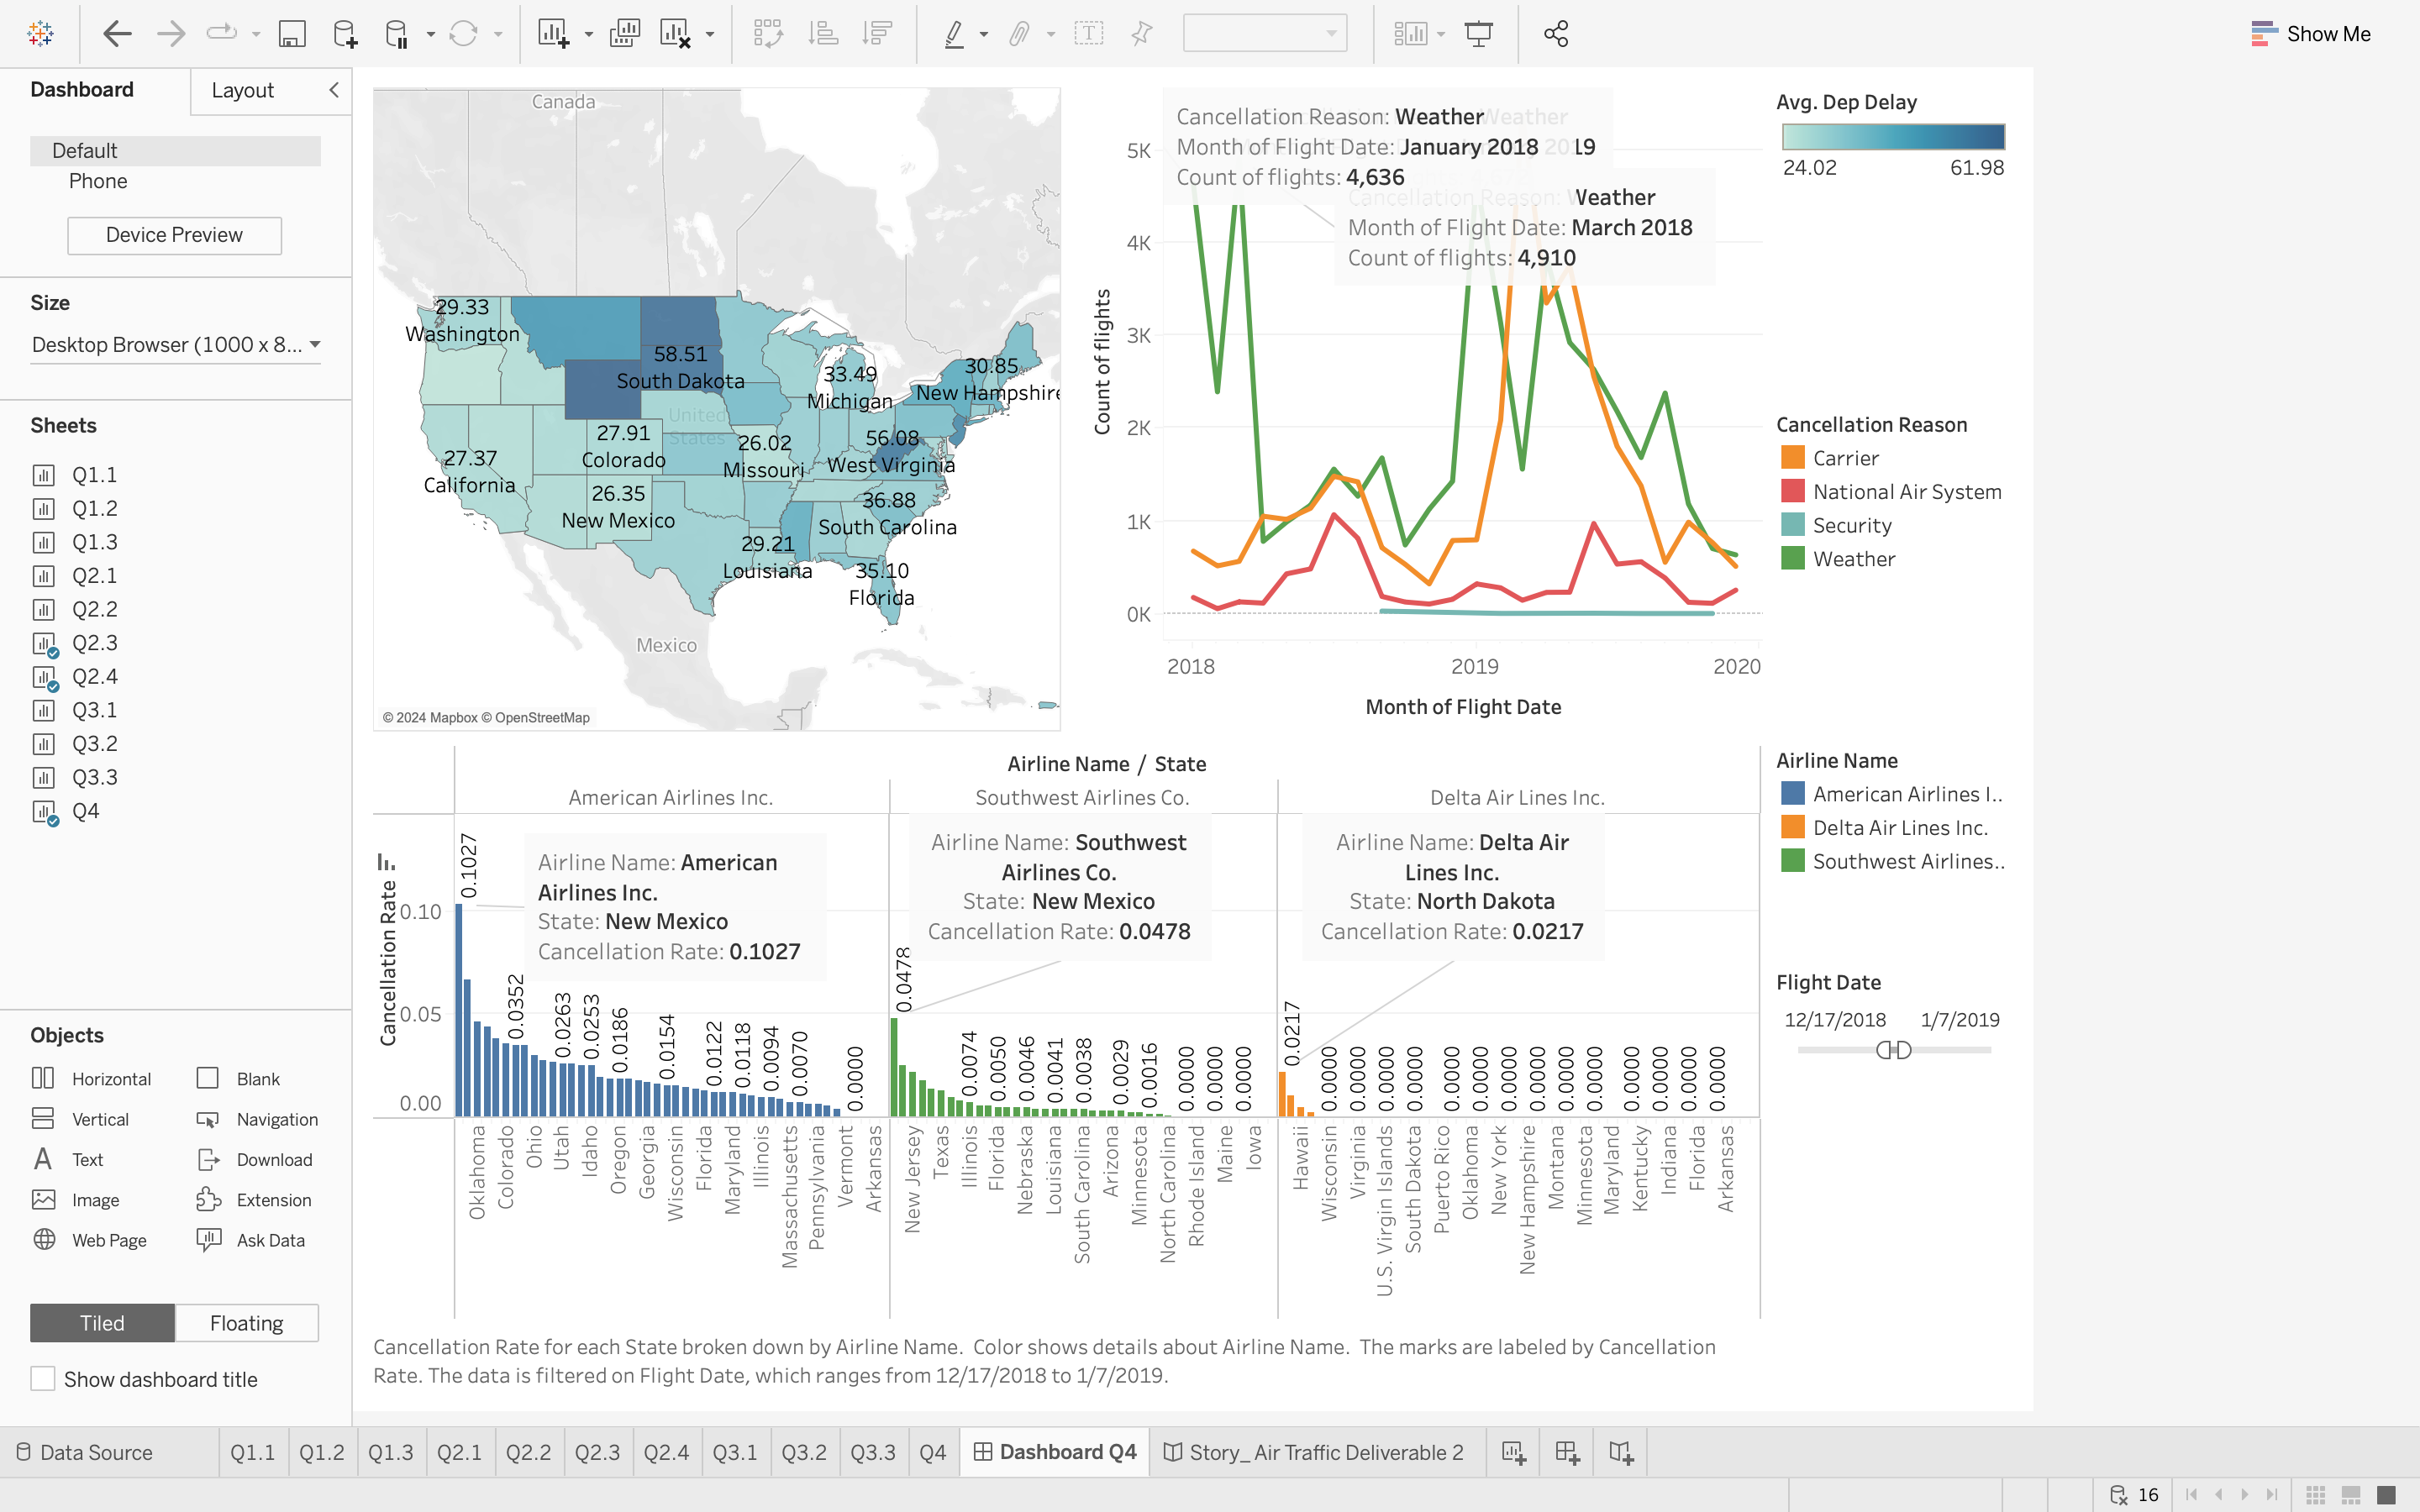

This screenshot's page, from the dashboard's own definition file:
{"tool":"tableau","page":{"name":"Dashboard Q4","canvas":[1000,800],"ordinal":0},"visuals":[{"type":"worksheet","title":"Q2.3","mark":"Automatic","box":[8,8,417.5,392]},{"type":"worksheet","title":"Q2.4","mark":"Automatic","rows":["flights_2E1946C77D644DAF8CB25C8D09AF84A7"],"cols":["FlightDate"],"box":[425.5,8,417.5,392]},{"type":"legend","title":"Q2.3","param":"[federated.075cv9a1lhfjkc1817aqp1gbajwd].[avg:DepDelay:qk]","box":[843,8,149,192]},{"type":"legend","title":"Q2.4","param":"[federated.075cv9a1lhfjkc1817aqp1gbajwd].[none:CancellationReason:nk]","box":[843,200,149,106]},{"type":"worksheet","title":"Q4","mark":"Bar","rows":["Calculation_4775011932648517634"],"cols":["AirlineName","State"],"box":[8,400,835,392]},{"type":"legend","title":"Q4","param":"[federated.075cv9a1lhfjkc1817aqp1gbajwd].[none:AirlineName:nk]","box":[843,400,149,132]},{"type":"filter","title":"Q4","param":"[federated.075cv9a1lhfjkc1817aqp1gbajwd].[none:FlightDate:qk]","box":[843,532,149,69]}]}

Visuals, with their boxes on the page's 1000x800 design canvas (x1, y1, x2, y2). These are canvas units, not pixel positions in the 2420x1512 screenshot, which may show the page scaled, cropped or inside an application window:
"Q2.3" worksheet: (x1=8, y1=8, x2=426, y2=400)
"Q2.4" worksheet: (x1=426, y1=8, x2=843, y2=400)
"Q2.3" legend: (x1=843, y1=8, x2=992, y2=200)
"Q2.4" legend: (x1=843, y1=200, x2=992, y2=306)
"Q4" worksheet (Bar marks): (x1=8, y1=400, x2=843, y2=792)
"Q4" legend: (x1=843, y1=400, x2=992, y2=532)
"Q4" filter: (x1=843, y1=532, x2=992, y2=601)
